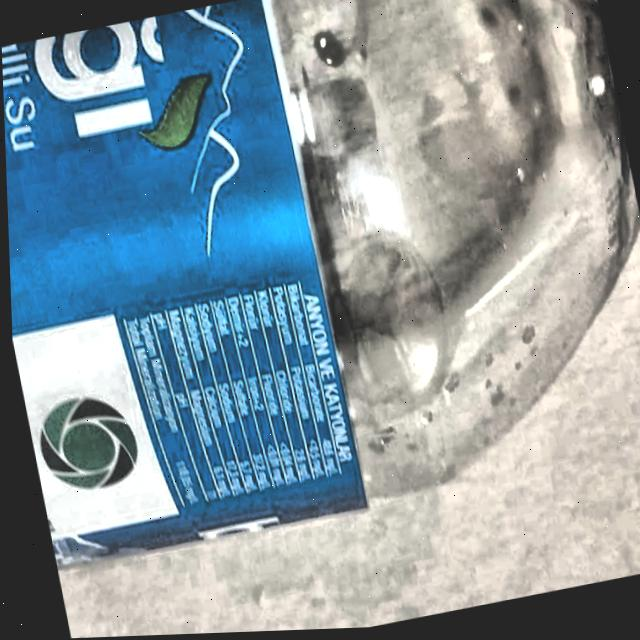plastic: (1, 0, 640, 578)
